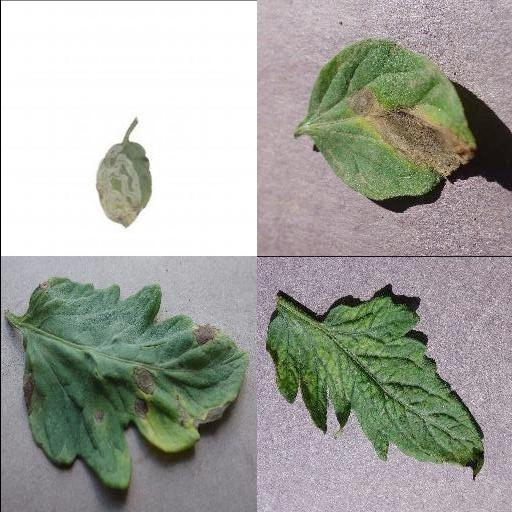Early Blight: (20, 274, 250, 490), (300, 35, 476, 201)
Leaf Miner: (92, 139, 149, 227)
Mosaic Virus: (264, 292, 484, 480)
